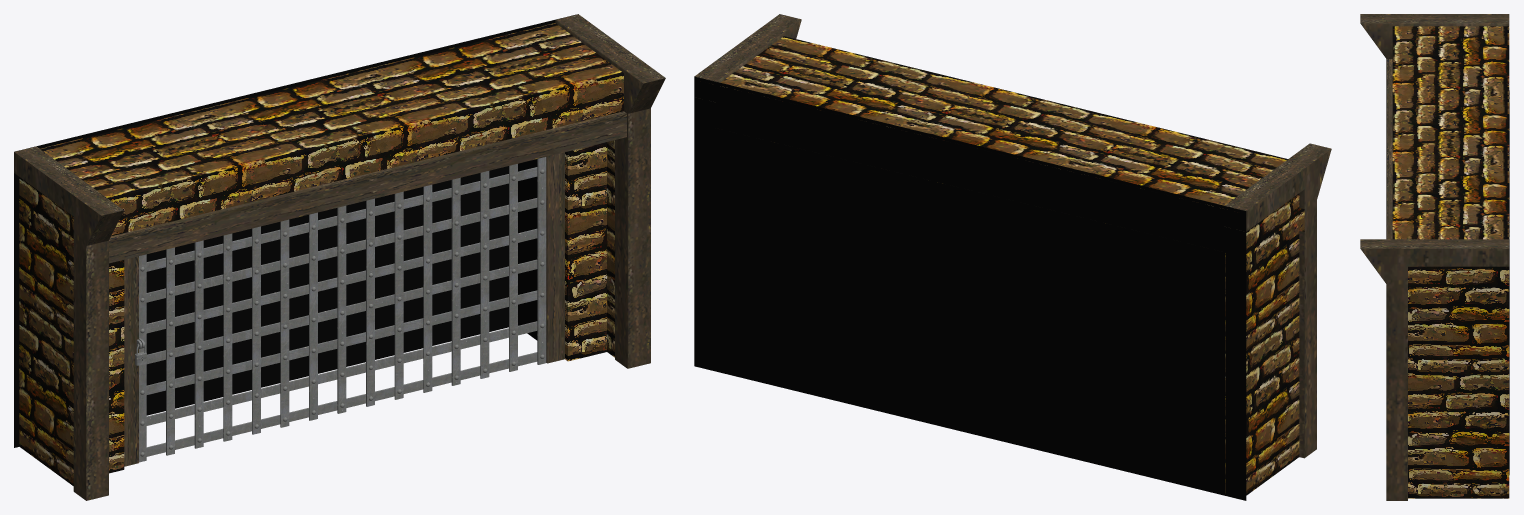
File: stoneDoorC.fbx
3 views of the same model, side by side, from view 1: azimuth 30°, elevation 25°; view 2: azimuth 150°, elevation 25°; view 3: azimuth 270°, elevation 25° (orthographic). The views are drawn at different scales.
Parts seen in each view (by area): view 1: stoneDoorC; view 2: stoneDoorC; view 3: stoneDoorC.
Boxes of the visible parts, x1,y1,x2,y2 form: stoneDoorC: (14,14,665,500); stoneDoorC: (694,14,1331,500); stoneDoorC: (1360,14,1509,500).
Size of the model in its own units: 600 by 301 by 161.
